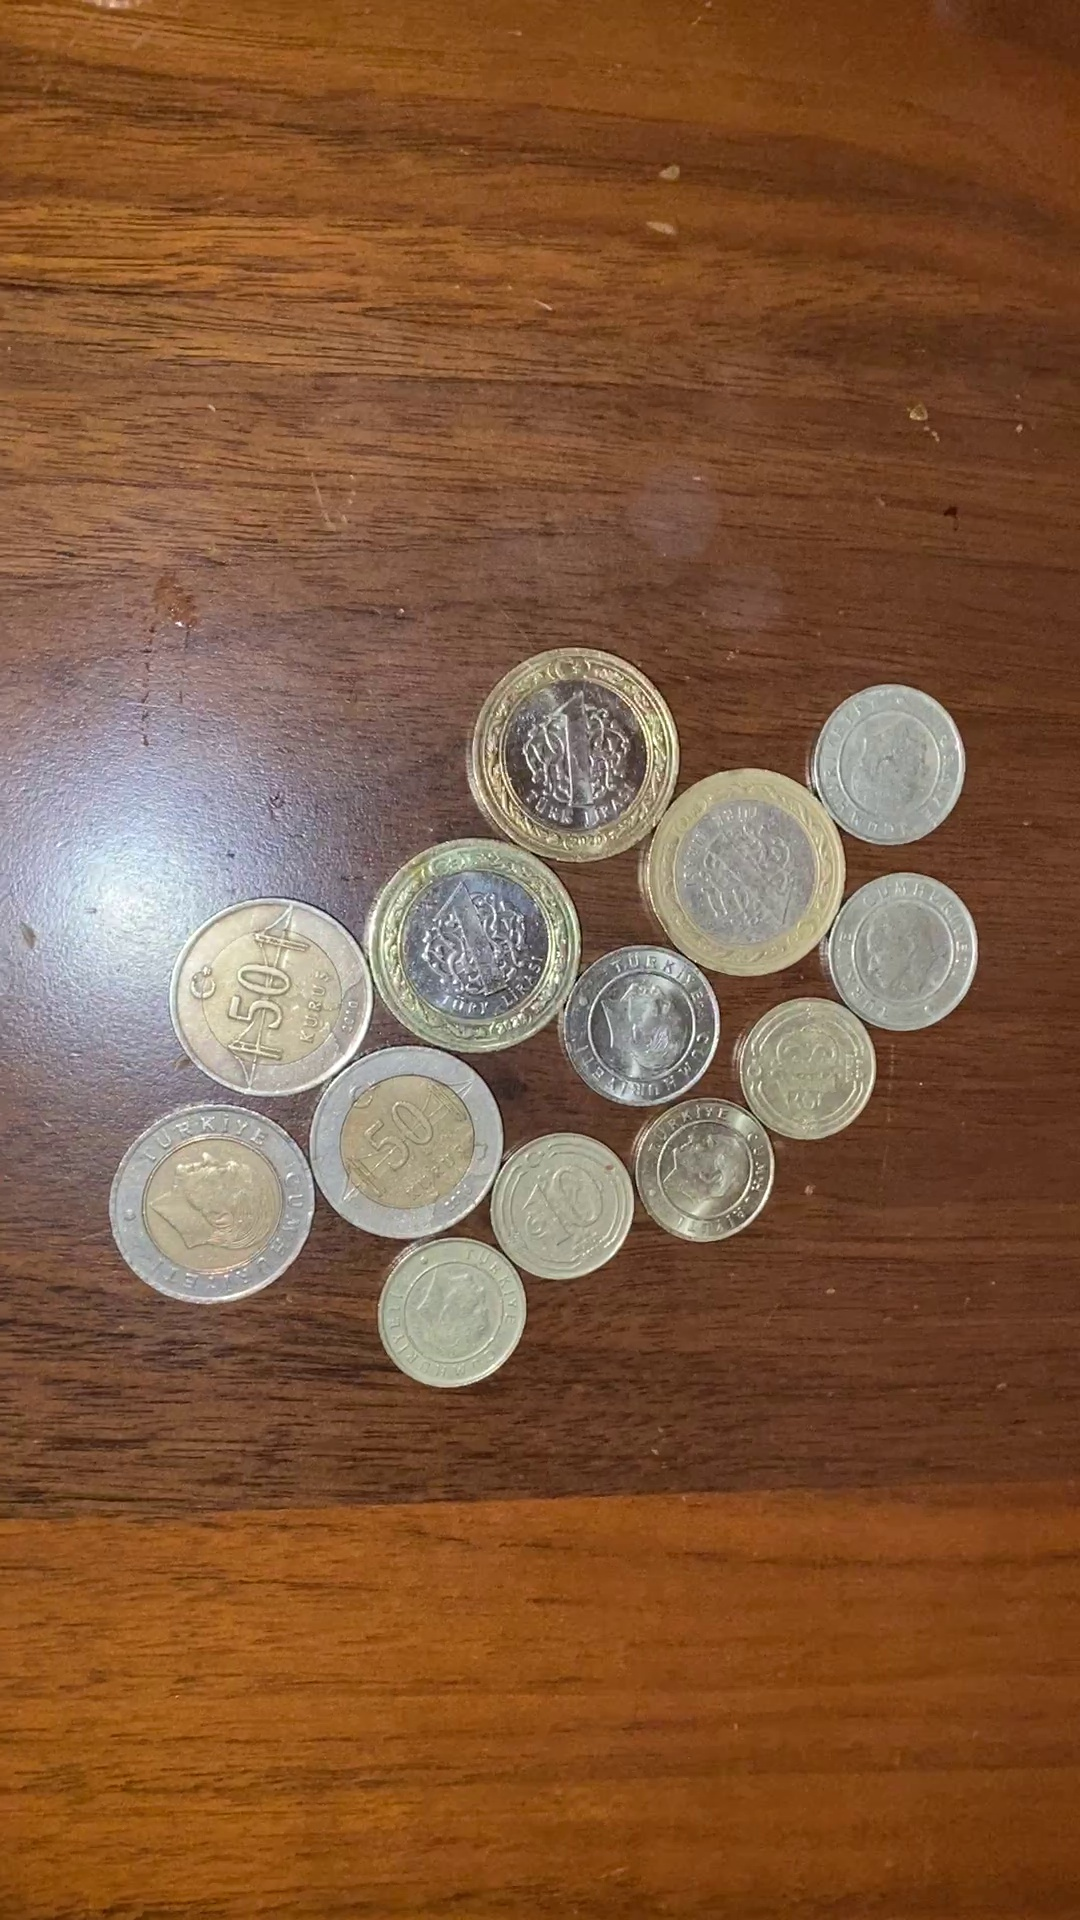1_tl: (365, 833, 595, 1054), (463, 644, 688, 866), (640, 767, 851, 986)
